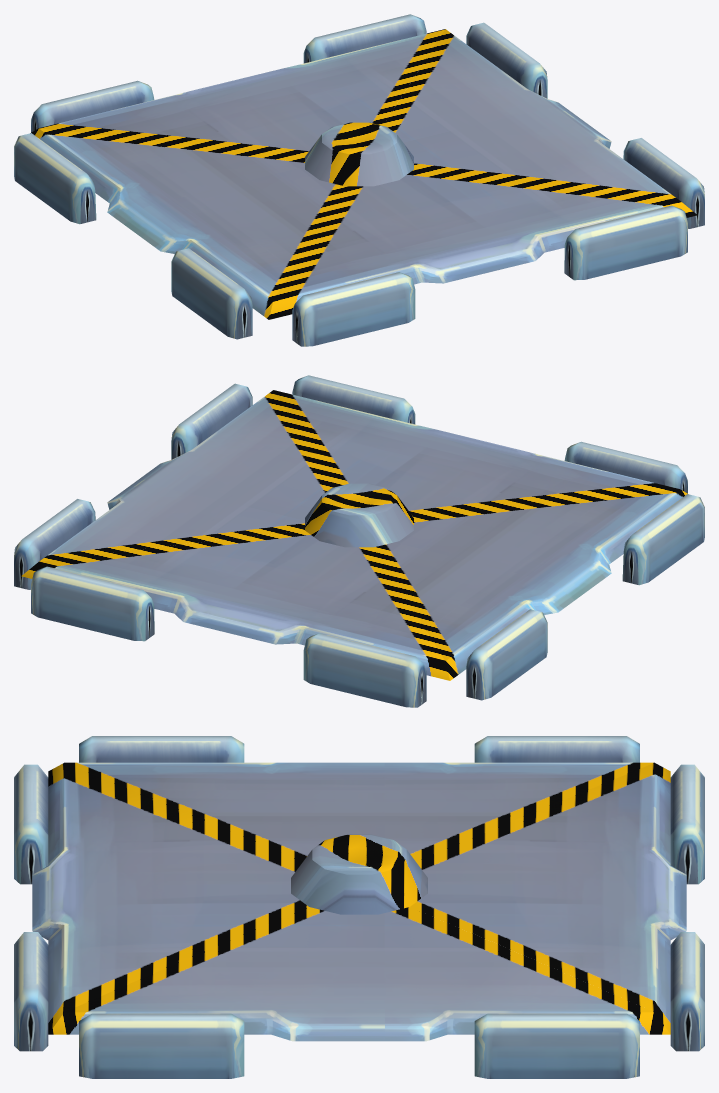
Rendered from CPB.fbx.
3 renders of one model, top to bottom at view 1: azimuth 30°, elevation 25°; view 2: azimuth 150°, elevation 25°; view 3: azimuth 270°, elevation 25°, orthographic. The views are drawn at different scales.
Parts seen in each view (by area): view 1: Component_PuzzleBackground.001, Component_PuzzleBackground.003, Component_PuzzleBackground.002, Component_PuzzleBackground.004, Circle; view 2: Component_PuzzleBackground.004, Component_PuzzleBackground.003, Component_PuzzleBackground.002, Component_PuzzleBackground.001, Circle; view 3: Component_PuzzleBackground.002, Component_PuzzleBackground.001, Component_PuzzleBackground.004, Component_PuzzleBackground.003, Circle.
Part boxes in pixels (bbox=[...]): Component_PuzzleBackground.001: bbox=[269, 169, 697, 346]; Component_PuzzleBackground.003: bbox=[14, 128, 344, 339]; Component_PuzzleBackground.002: bbox=[383, 22, 704, 228]; Component_PuzzleBackground.004: bbox=[31, 14, 444, 156]; Circle: bbox=[305, 122, 413, 186]; Component_PuzzleBackground.004: bbox=[21, 530, 449, 707]; Component_PuzzleBackground.003: bbox=[374, 489, 704, 700]; Component_PuzzleBackground.002: bbox=[14, 383, 335, 589]; Component_PuzzleBackground.001: bbox=[274, 375, 687, 517]; Circle: bbox=[305, 483, 413, 547]; Component_PuzzleBackground.002: bbox=[48, 907, 670, 1078]; Component_PuzzleBackground.001: bbox=[14, 763, 308, 1051]; Component_PuzzleBackground.004: bbox=[410, 763, 704, 1051]; Component_PuzzleBackground.003: bbox=[64, 736, 654, 861]; Circle: bbox=[291, 834, 427, 914].
Size of the model in its own units: 200 by 25.96 by 200.
